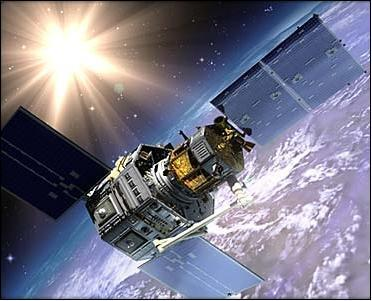antenna: (178, 128, 190, 142)
body: (84, 124, 245, 263)
solar: (208, 13, 366, 146), (0, 104, 113, 222), (136, 234, 266, 301)
thruster: (213, 115, 228, 131), (242, 139, 256, 154), (152, 237, 163, 250)
